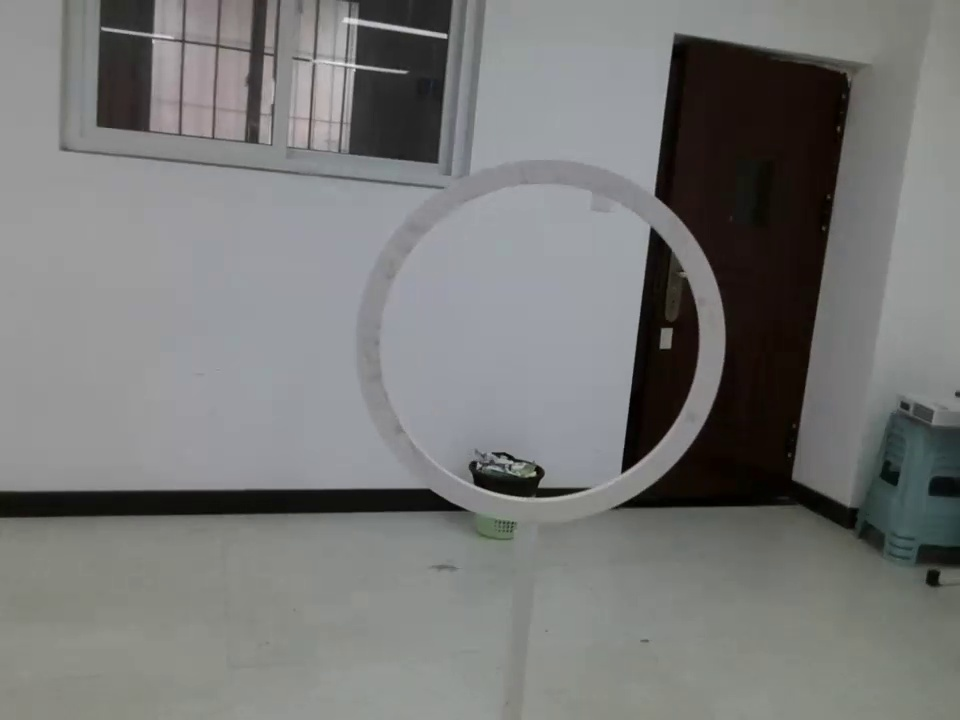quan: (347, 152, 732, 529)
